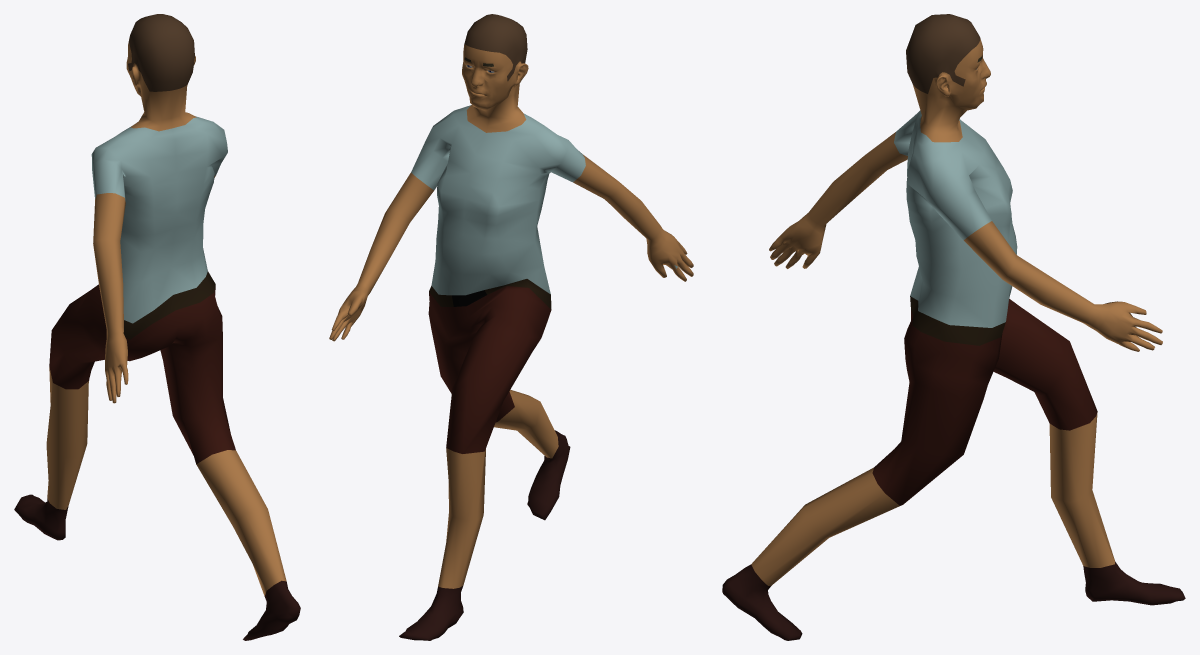
Rendered from person2_000002.obj.
3 renders of one model, left to right at view 1: azimuth 30°, elevation 25°; view 2: azimuth 150°, elevation 25°; view 3: azimuth 270°, elevation 25°, orthographic. The views are drawn at different scales.
Visible parts, largest first — view 1: Cube; view 2: Cube; view 3: Cube.
Boxes of the visible parts, bbox=[...] form: Cube: bbox=[14, 14, 300, 640]; Cube: bbox=[329, 14, 693, 640]; Cube: bbox=[722, 14, 1185, 640].
Bounding box in the file's own units: 33.85 × 88.56 × 61.1.
